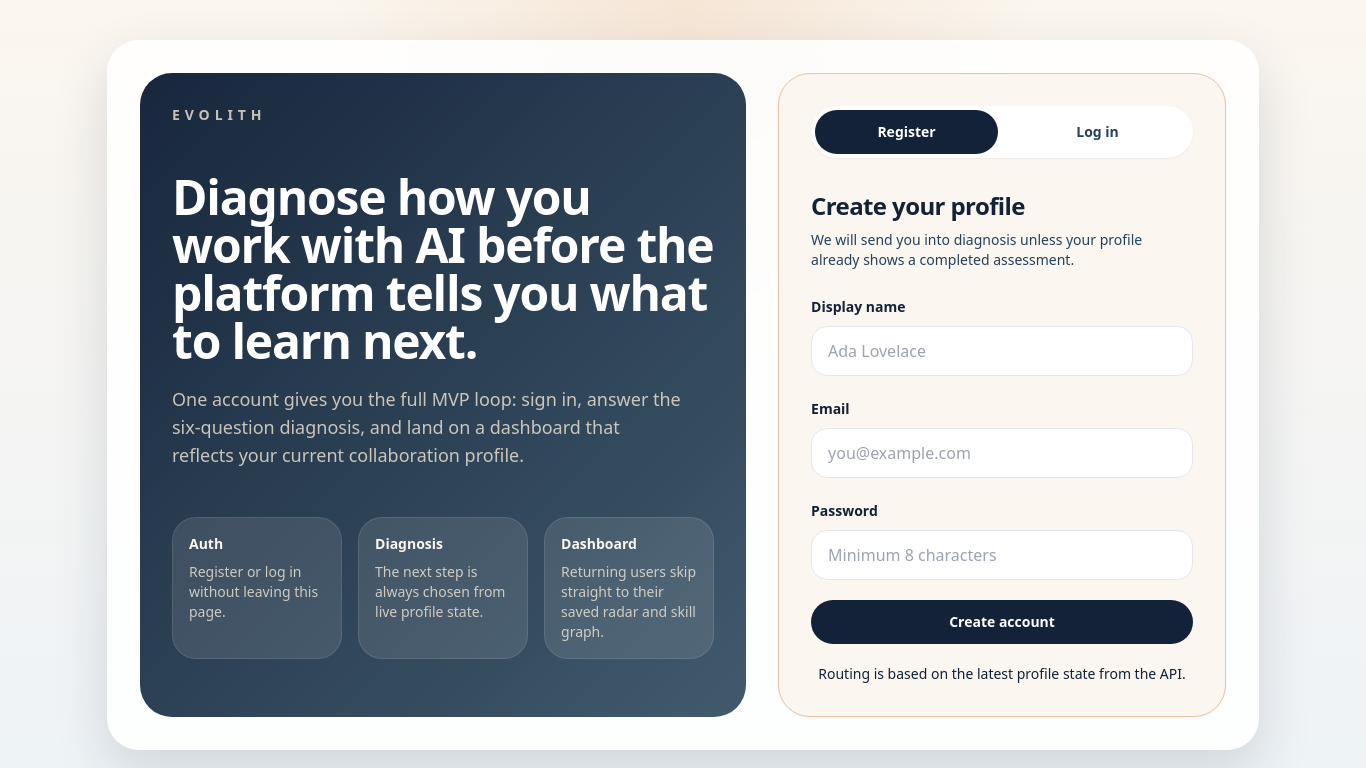
Test: AuthPage › shows the API error inline when credentials are rejected
The width and height of the screenshot is (1366, 768).
Click the button "Log in": [1098, 132] box [1006,110,1189,154]
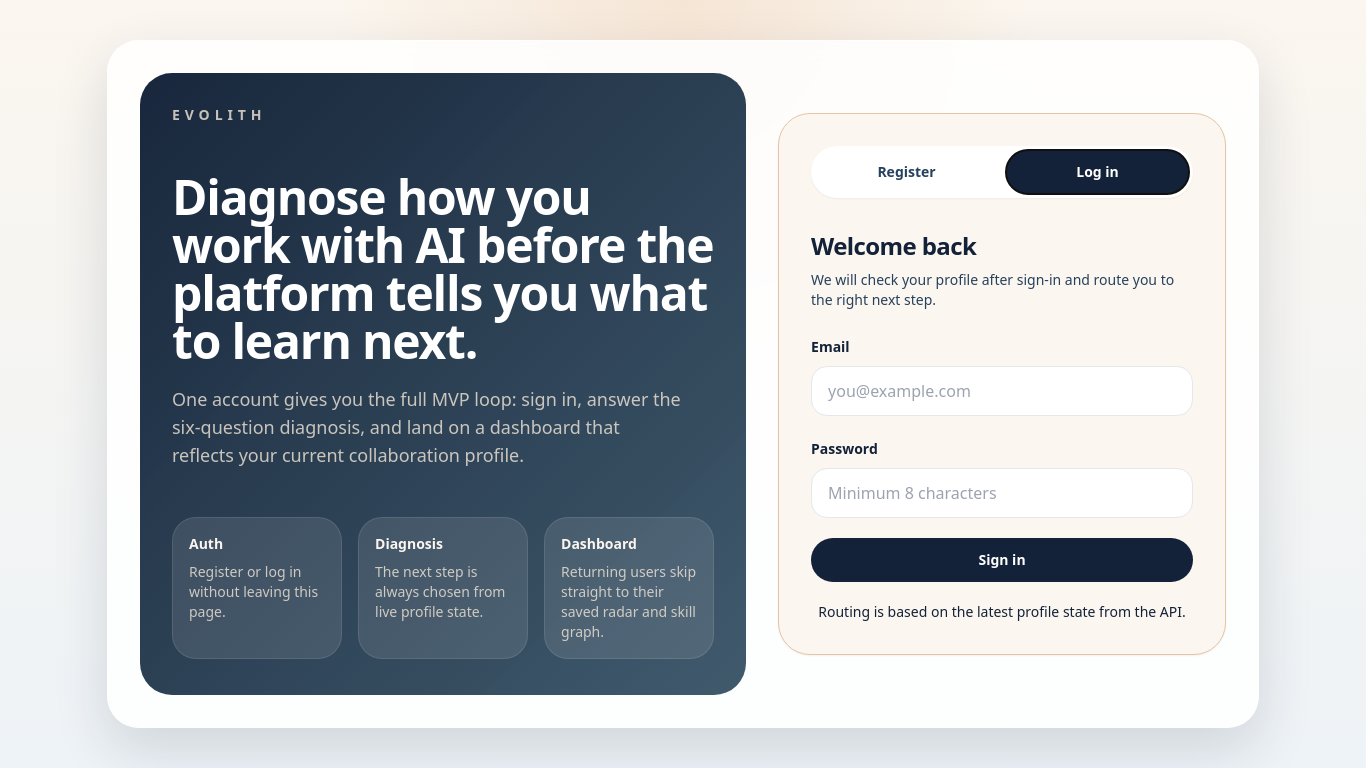
In the field labelled "Email": [1002, 391] box [811,366,1193,416], type "ada@example.com"
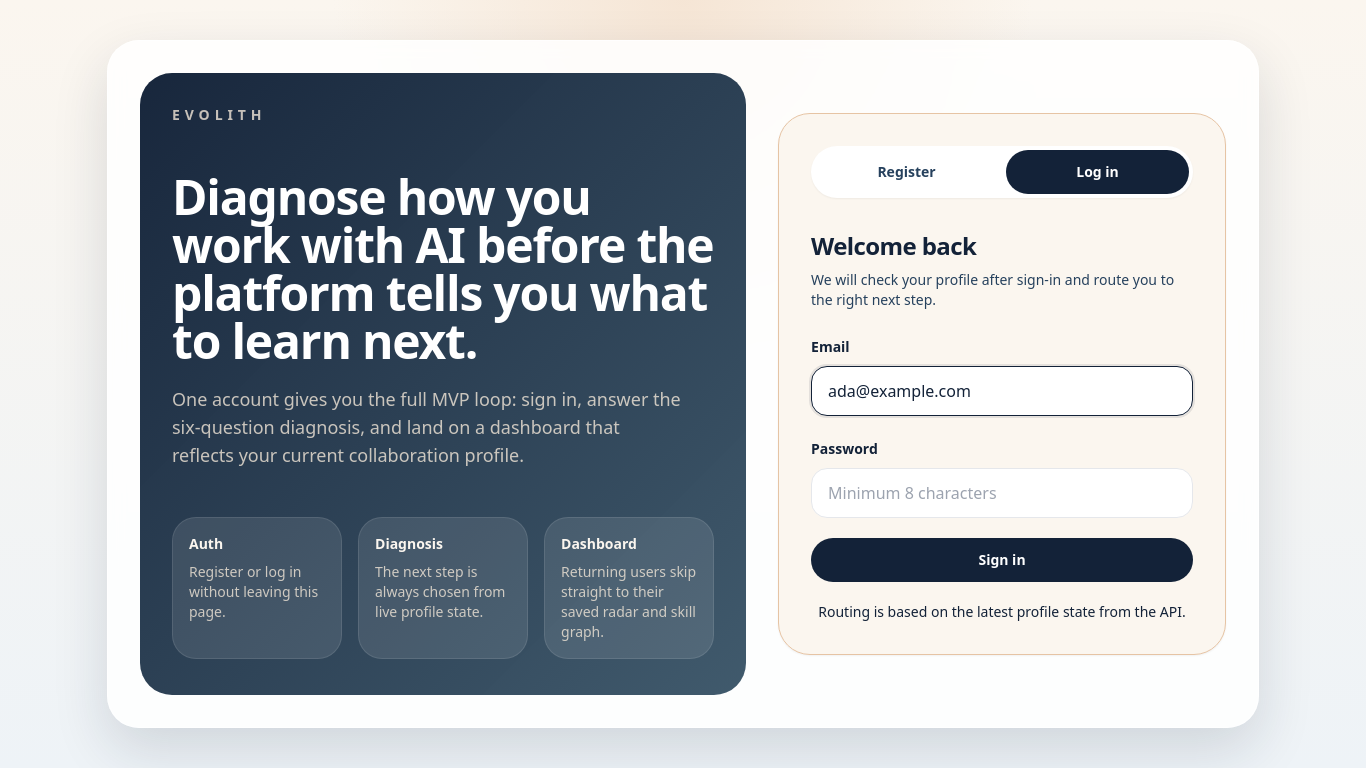
In the password field labelled "Password": [1002, 493] box [811,468,1193,518], type "bad-password"
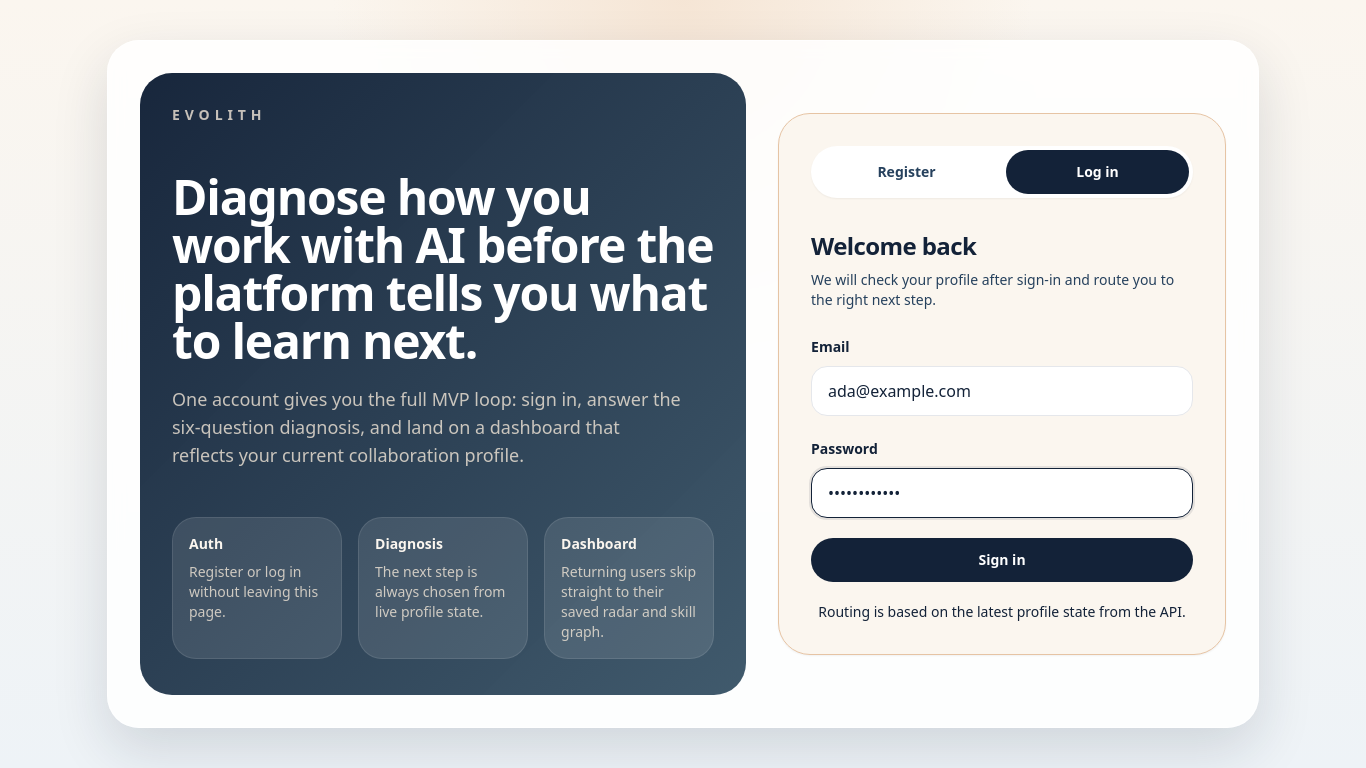
Click the button "Sign in": [1002, 560] box [811,538,1193,582]
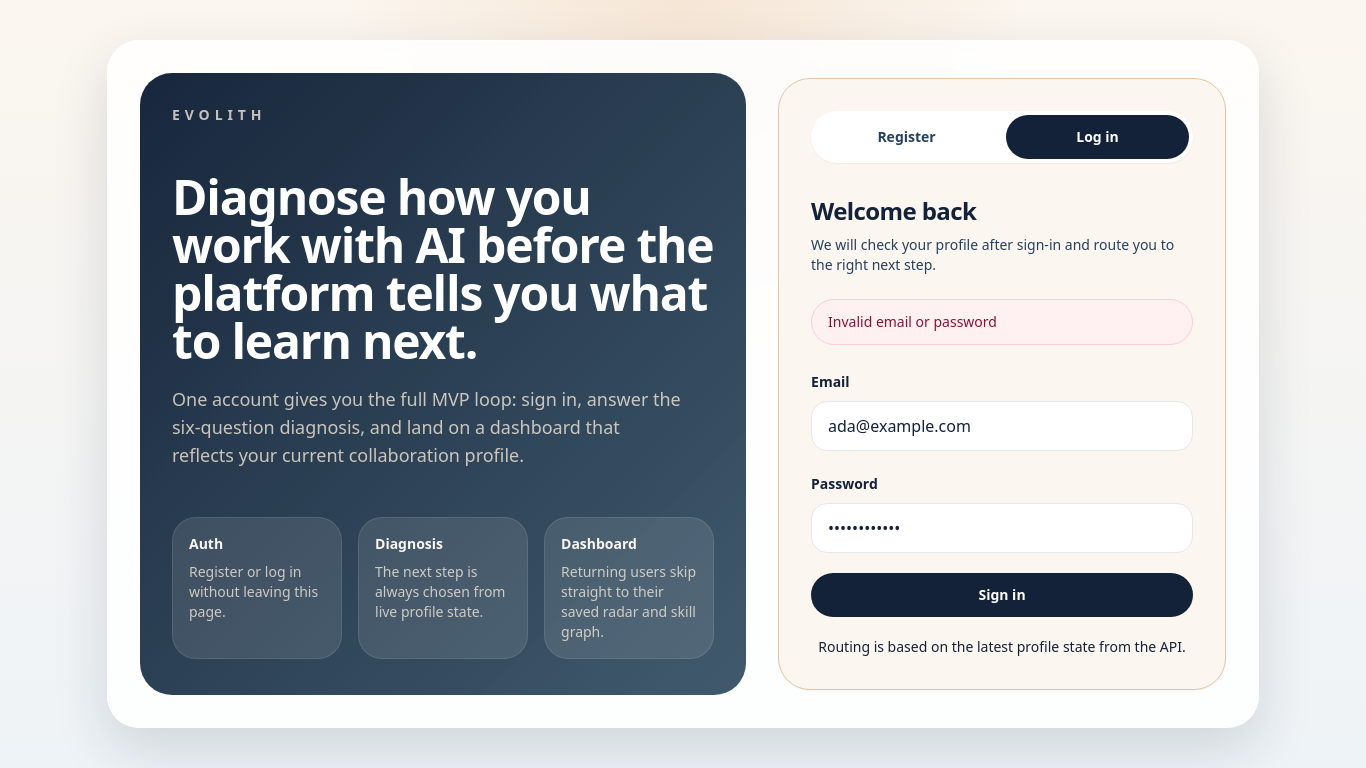
Expected: the message reads "Invalid email or password", [828,312,997,331]
